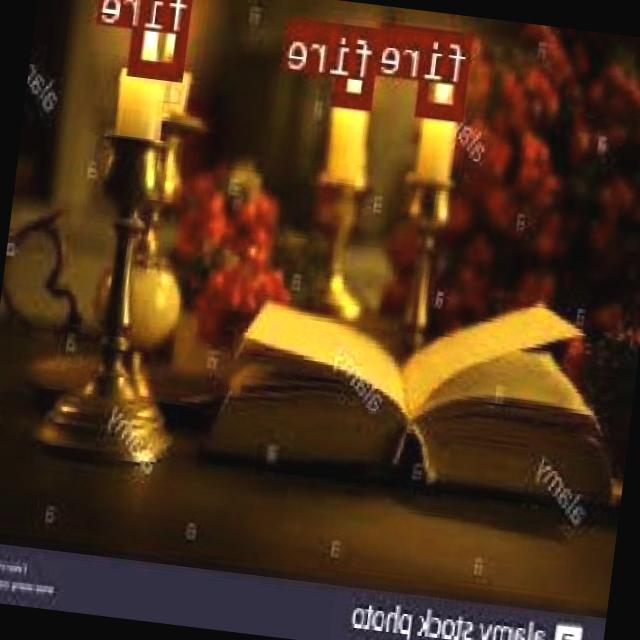fire: (416, 27, 474, 117), (129, 0, 197, 75), (334, 22, 384, 108)
